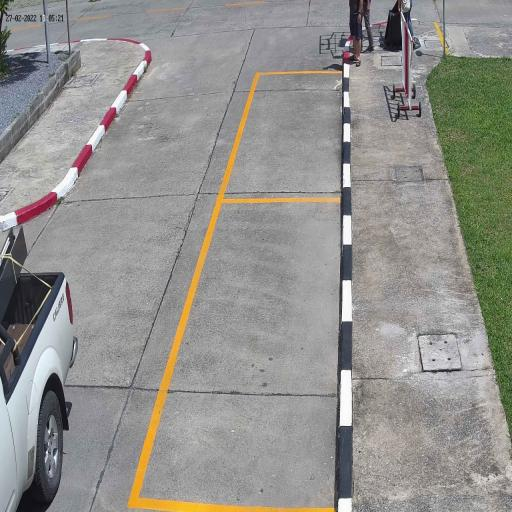car: (0, 269, 78, 512)
